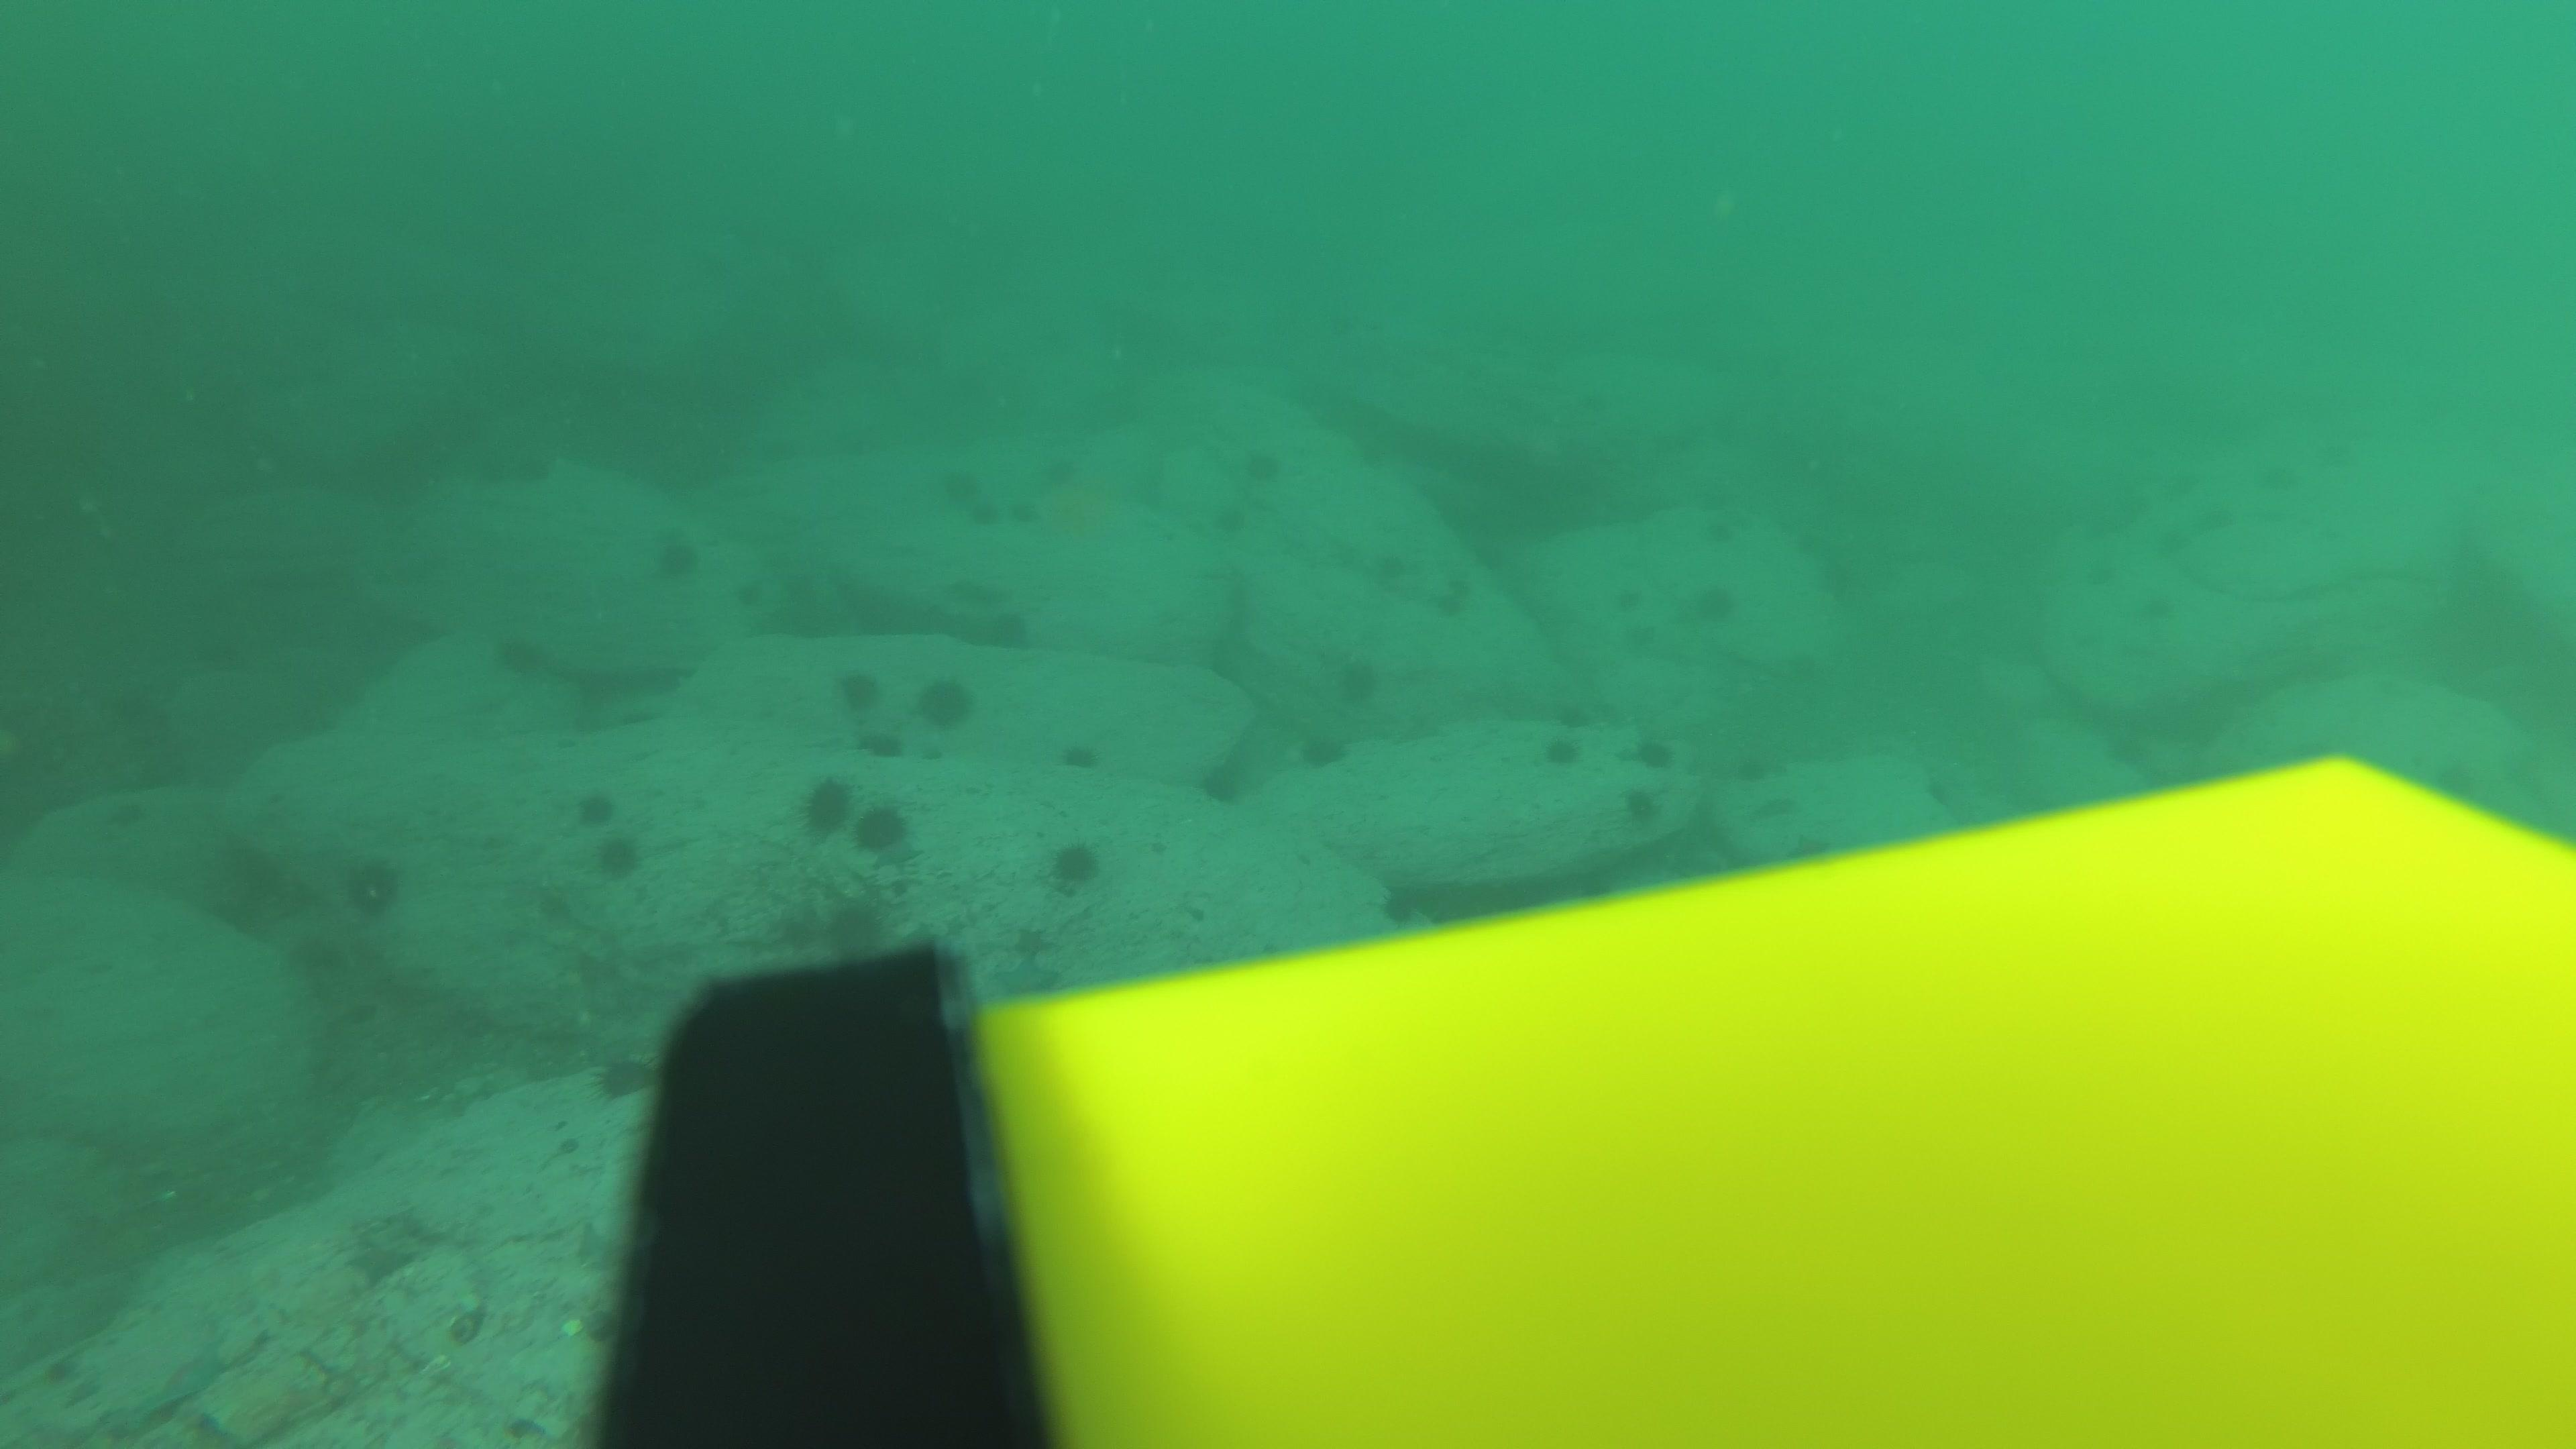echinus: (205, 837, 297, 932), (341, 849, 405, 918), (591, 1047, 655, 1106), (1194, 750, 1253, 809), (823, 893, 883, 950), (801, 775, 855, 839), (918, 672, 975, 731), (1378, 870, 1435, 929), (853, 800, 908, 856), (649, 527, 702, 584), (591, 823, 644, 879), (1049, 835, 1102, 890), (492, 628, 547, 679), (571, 786, 623, 835), (1690, 577, 1739, 628), (1297, 725, 1350, 773), (1336, 651, 1382, 706), (833, 663, 881, 715), (1537, 729, 1585, 775), (1628, 731, 1675, 773), (1251, 446, 1295, 487), (1058, 738, 1102, 777), (936, 460, 978, 499), (855, 717, 890, 754), (1704, 513, 1736, 545), (2206, 508, 2238, 540), (2116, 736, 2148, 768), (1387, 554, 1419, 584), (1435, 594, 1467, 625), (1044, 449, 1076, 479), (968, 499, 1000, 529), (998, 610, 1030, 640), (782, 570, 814, 600), (768, 433, 800, 464), (874, 732, 906, 763), (1628, 619, 1660, 649), (1615, 586, 1647, 616), (1472, 540, 1504, 570), (1555, 702, 1587, 732), (1624, 794, 1656, 824), (1743, 757, 1775, 787), (2148, 598, 2180, 628), (2082, 557, 2112, 589), (2158, 525, 2190, 556), (2261, 465, 2293, 495), (1444, 575, 1474, 605), (1214, 506, 1244, 536), (1008, 495, 1039, 525), (1790, 525, 1821, 556), (2323, 437, 2353, 467), (1757, 791, 1787, 821)
starfish: (99, 1322, 257, 1435), (340, 1224, 421, 1288), (996, 938, 1062, 996), (823, 893, 885, 950), (1007, 924, 1054, 973), (1783, 833, 1831, 867)
